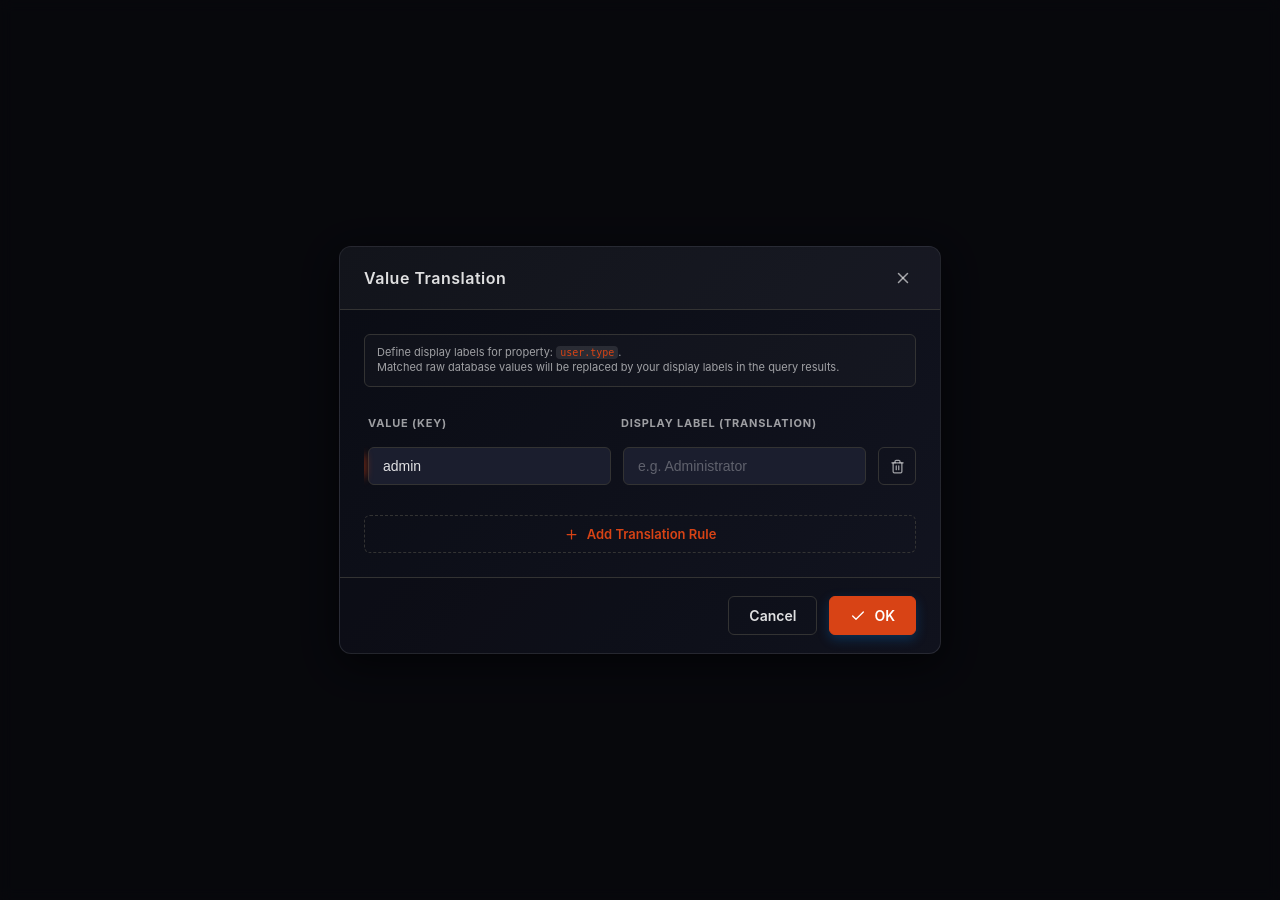
Scenario: TranslationDialog › allows adding a new empty translation rule
The image size is (1280, 900).
What coordinates should you click on to do the following:
click the button "Add Translation Rule"
I would click on:
 (640, 534)
Its box is x1=364 y1=515 x2=916 y2=553.
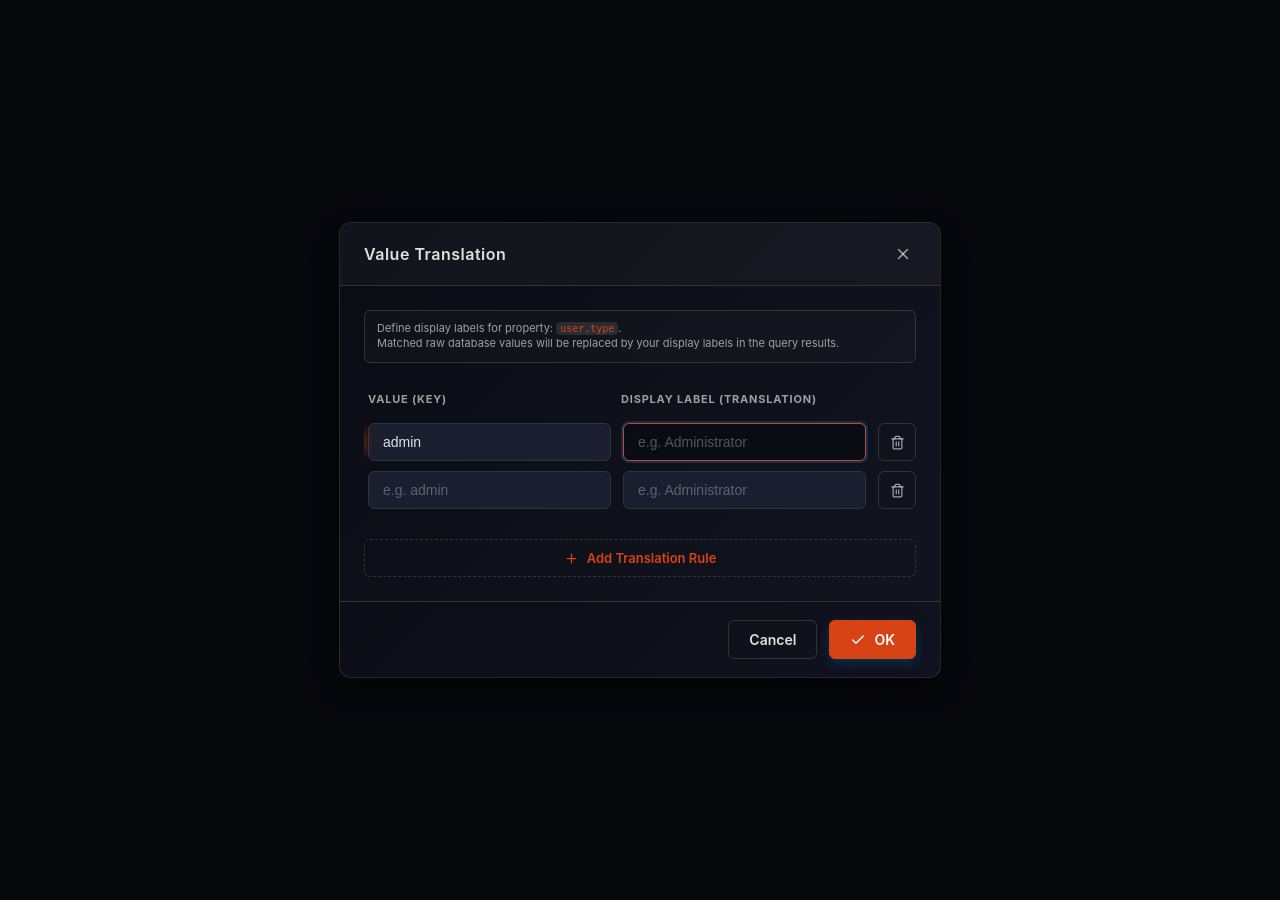
Check: the number of fields with placeholder "e.g. admin" is 2, box x1=368 y1=423 x2=611 y2=461; x1=368 y1=471 x2=611 y2=509
Check: the number of fields with placeholder "e.g. Administrator" is 2, box x1=623 y1=423 x2=866 y2=461; x1=623 y1=471 x2=866 y2=509
Check: the field with placeholder "e.g. admin" is empty, box x1=368 y1=471 x2=611 y2=509
